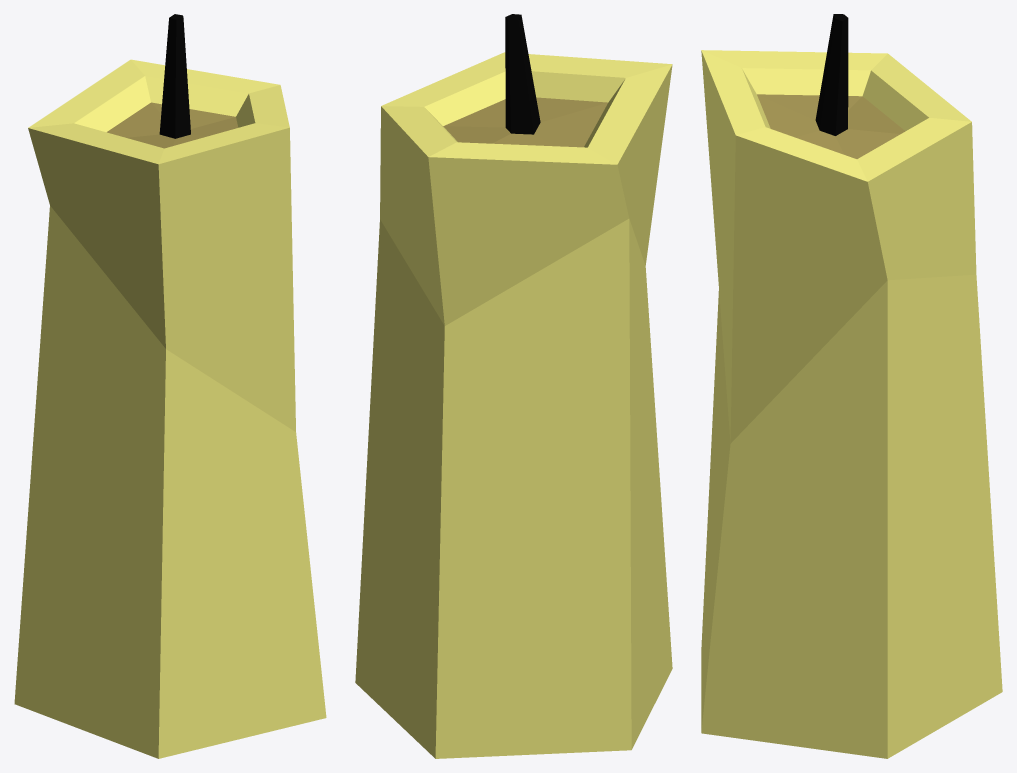
Rendered from candle.fbx.
3 renders of one model, left to right at view 1: azimuth 30°, elevation 25°; view 2: azimuth 150°, elevation 25°; view 3: azimuth 270°, elevation 25°, orthographic.
Parts seen in each view (by area): view 1: Candle; view 2: Candle; view 3: Candle.
Boxes of the visible parts, x1,y1,x2,y2 form: Candle: (14, 14, 326, 758); Candle: (355, 14, 672, 758); Candle: (701, 14, 1002, 758).
Bounding box in the file's own units: 15.97 × 37.69 × 15.19.
